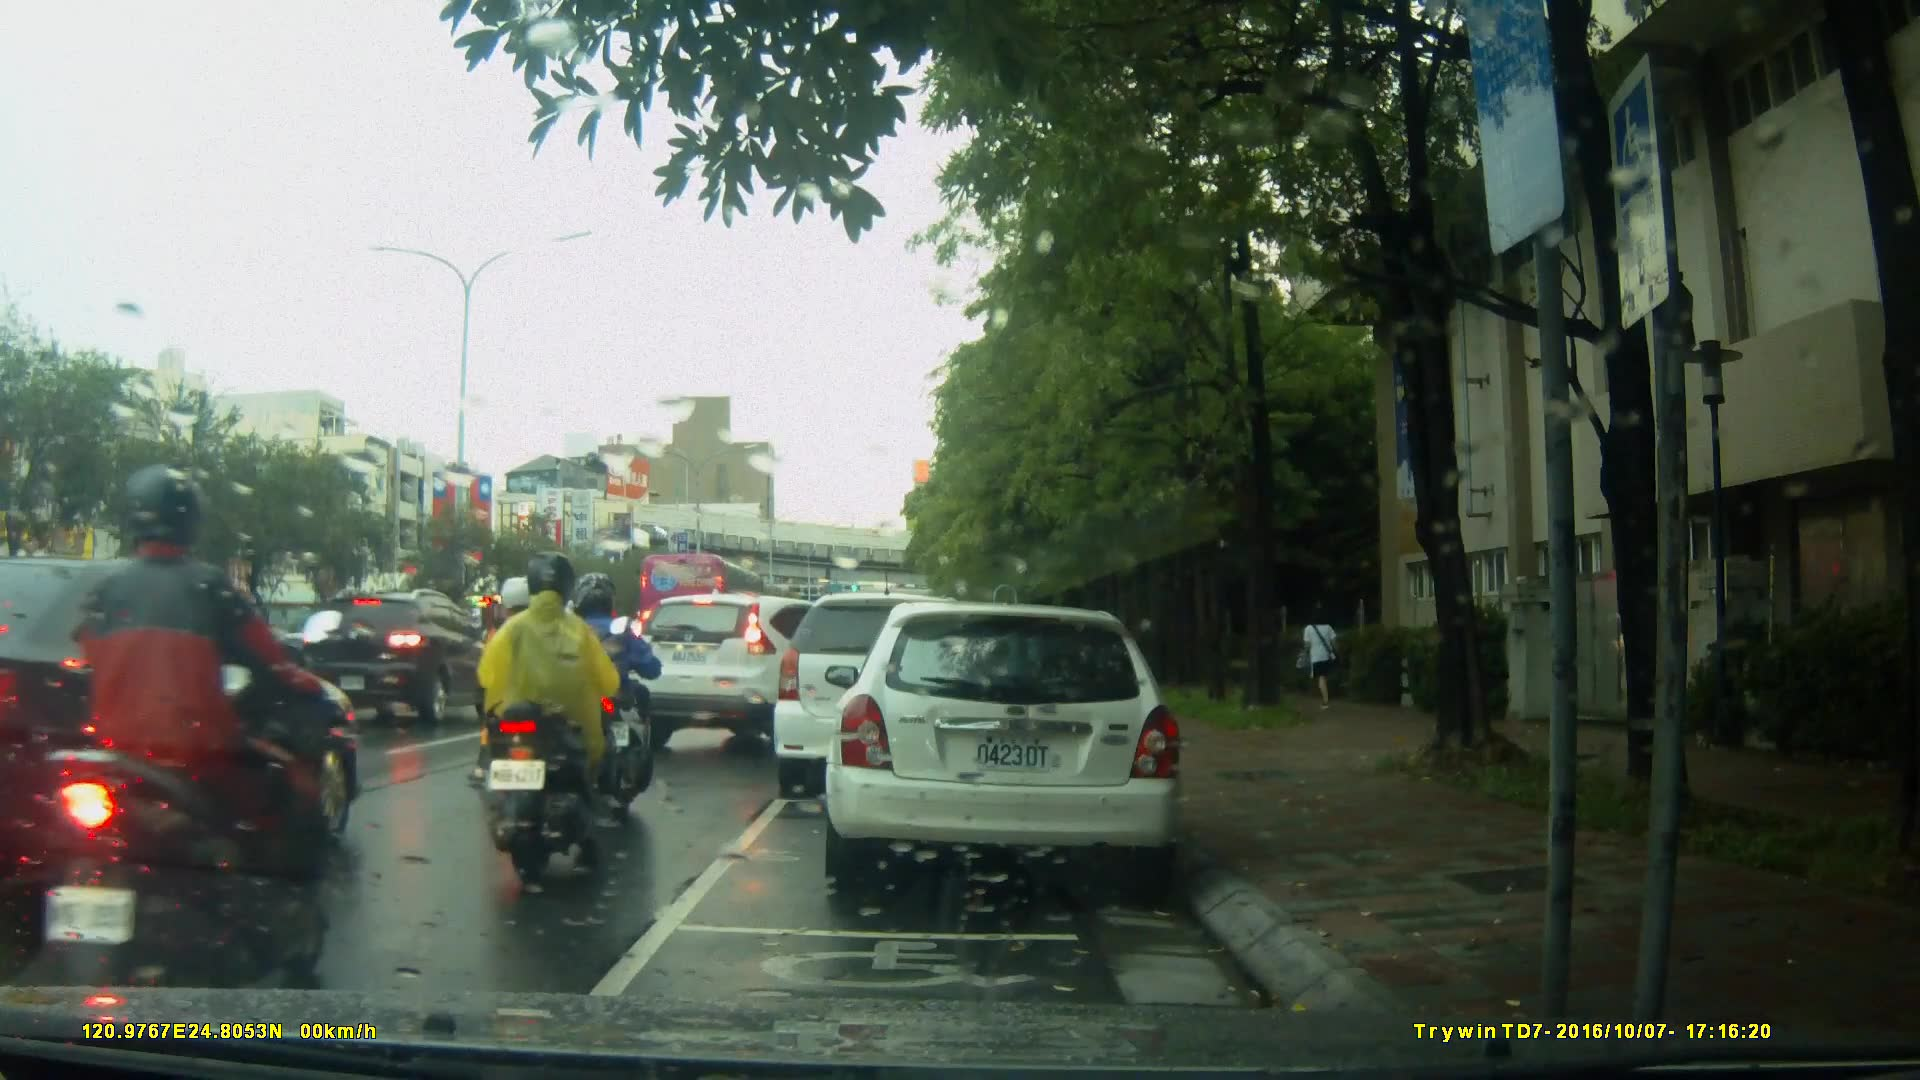pedestrian: (1292, 601, 1349, 723)
rider: (38, 476, 353, 1009), (475, 559, 621, 882), (550, 568, 664, 829), (464, 574, 549, 808)
vehicle: (1, 553, 355, 913), (835, 594, 1194, 898), (776, 590, 1026, 784), (621, 588, 879, 760), (296, 585, 505, 727), (638, 550, 767, 639)
